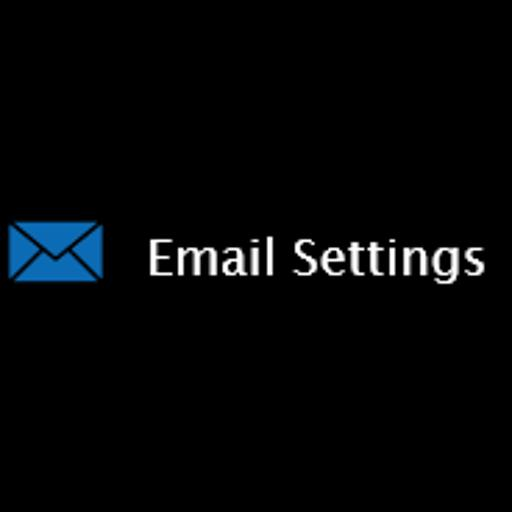Webmail Provider: (0, 209, 512, 303)
